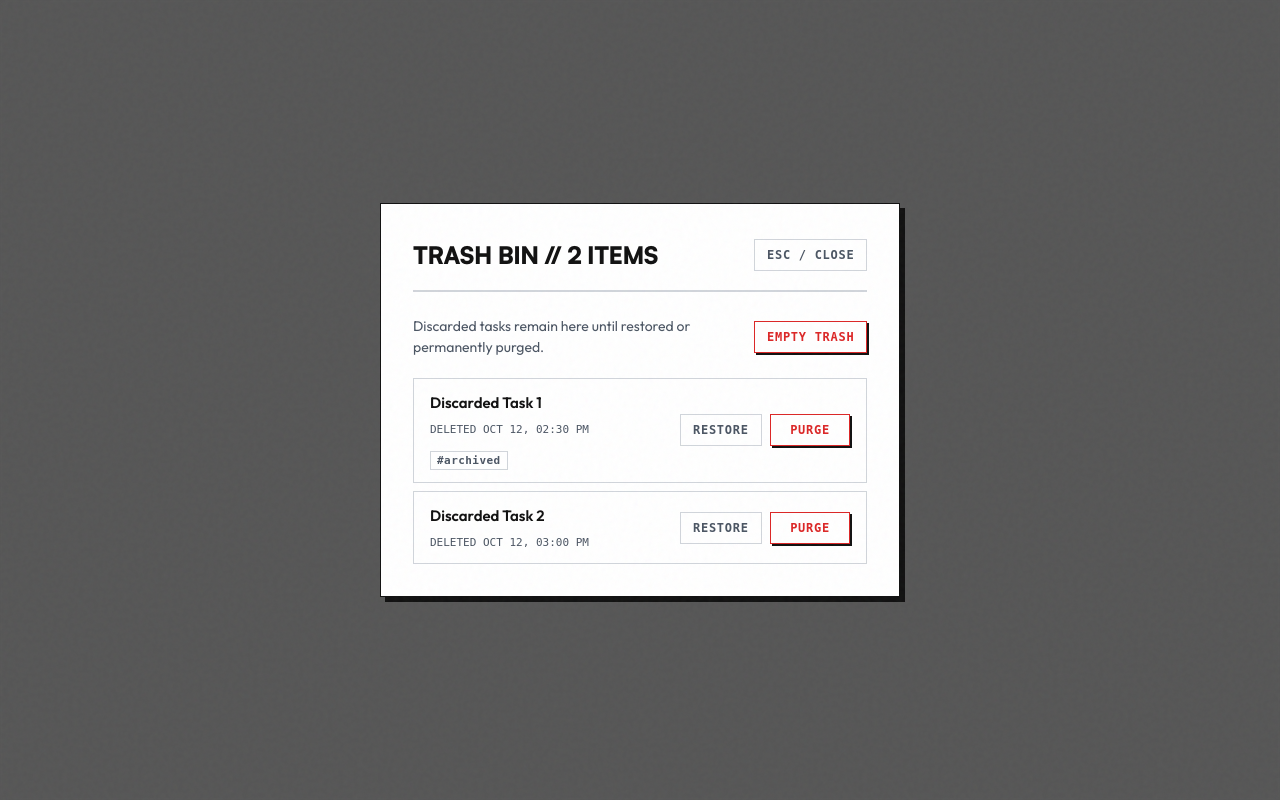
it: TrashModal › opens confirmation modal when PURGE is clicked
Click the button "PURGE" in the row of "Oct 12, 02:30 PM" at (810, 430), box x1=770 y1=414 x2=850 y2=446
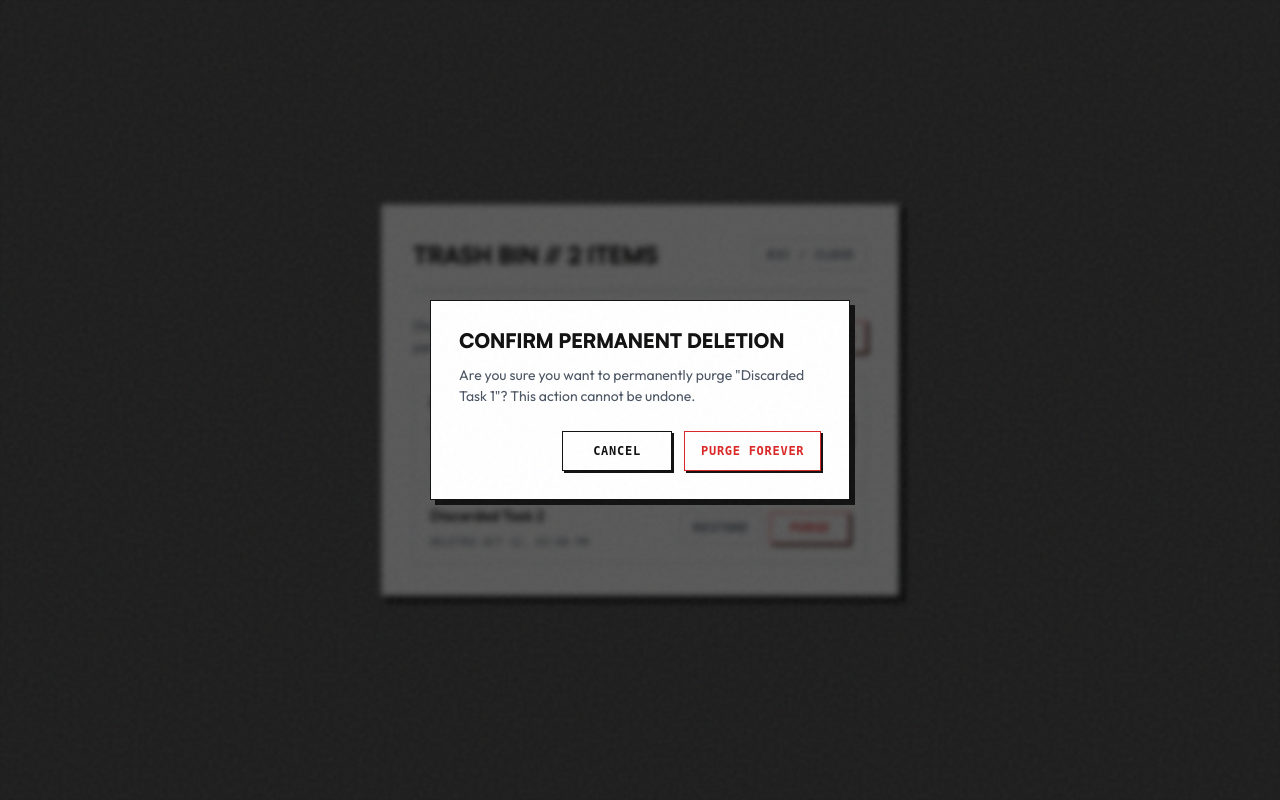
Check: the text "Are you sure you want to permanently purge \"Discarded Task 1\"?" is shown, box x1=459 y1=366 x2=804 y2=405
